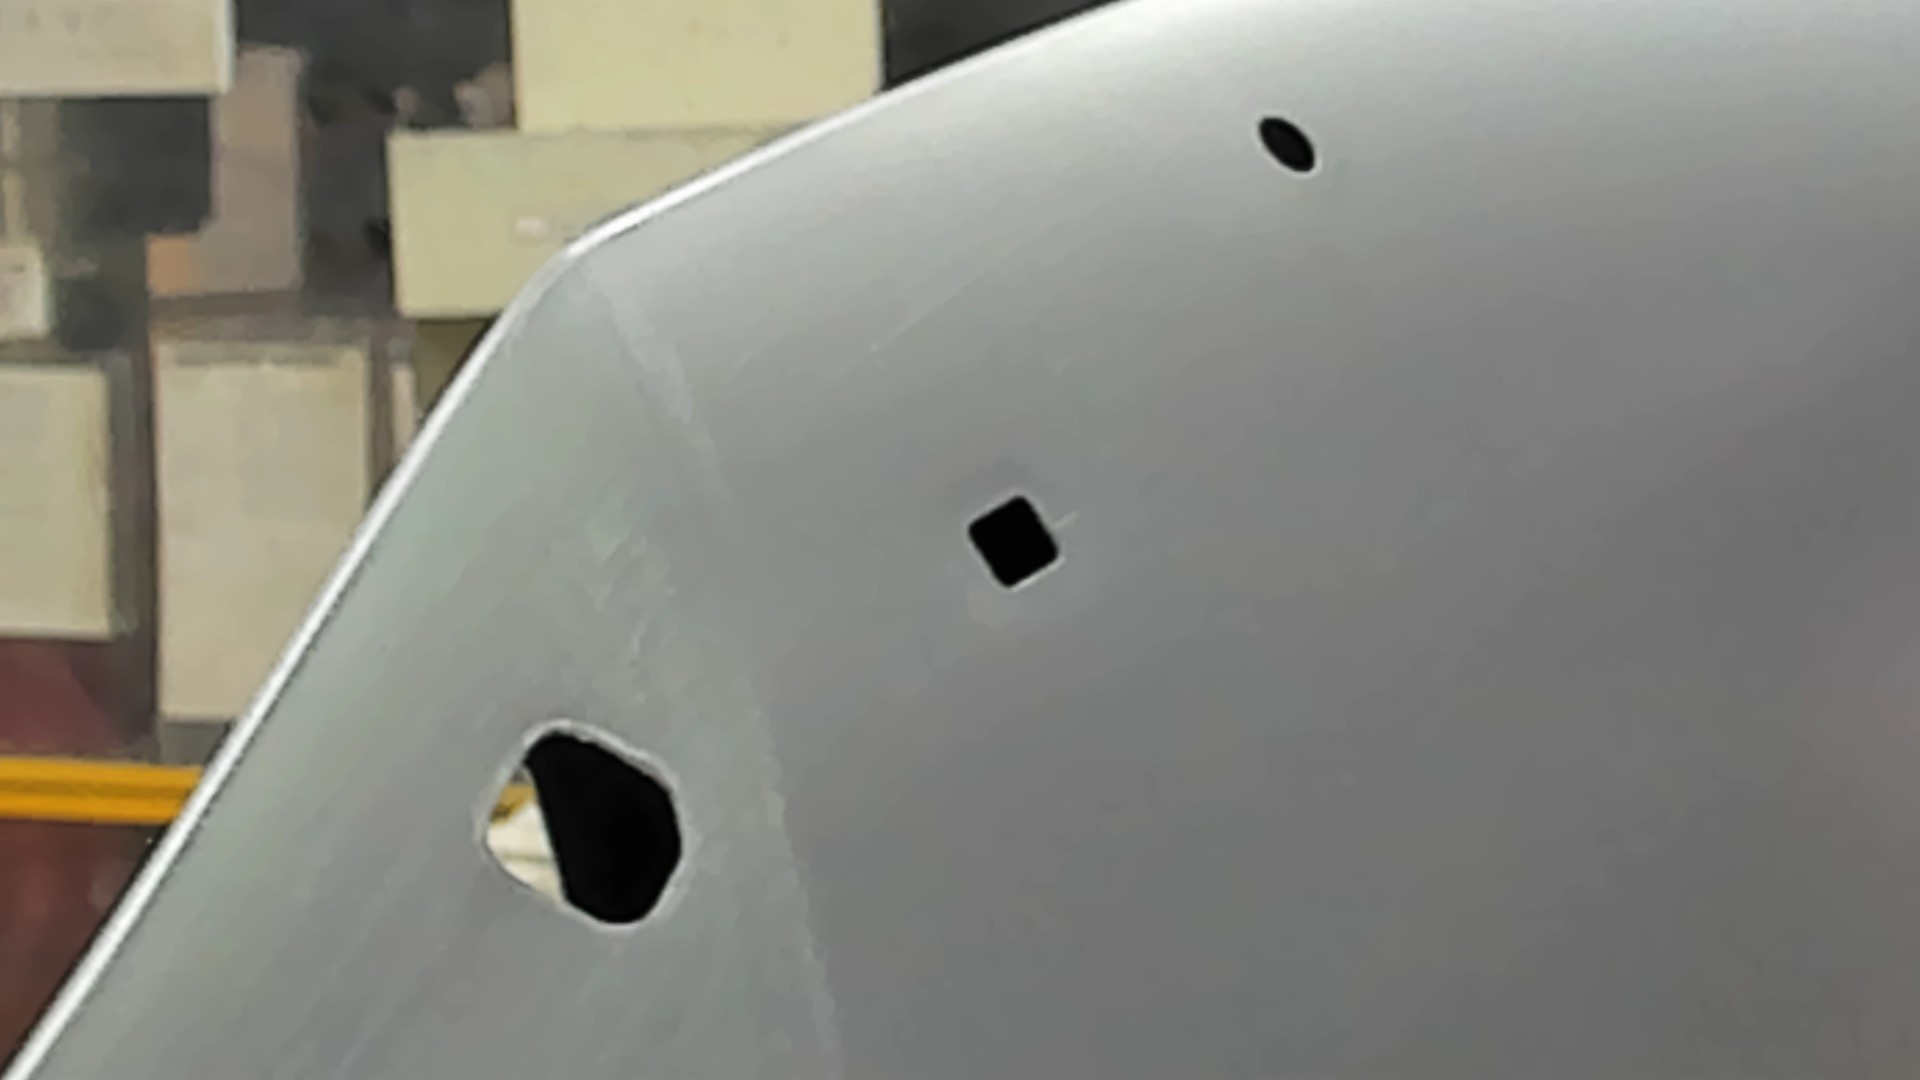chico: (1247, 105, 1324, 181)
grande: (471, 715, 695, 936)
mediano: (957, 488, 1065, 601)
